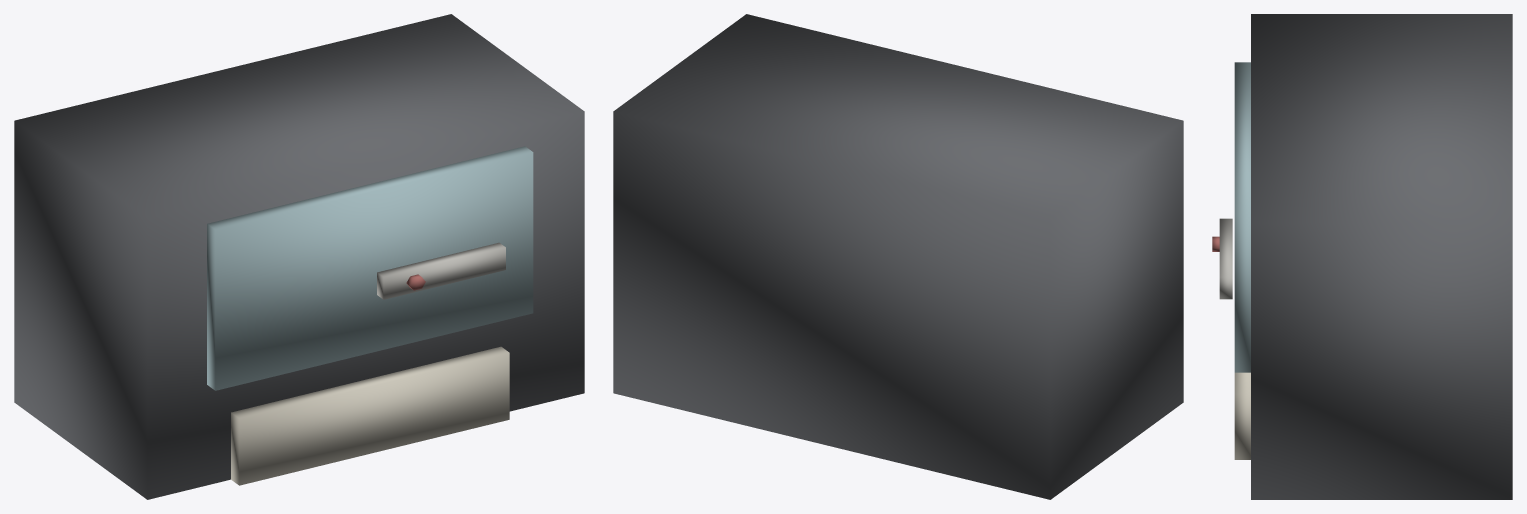
File: television__wide.glb
3 renders of one model, left to right at view 1: azimuth 30°, elevation 25°; view 2: azimuth 150°, elevation 25°; view 3: azimuth 270°, elevation 25°, orthographic.
Parts seen in each view (by area): view 1: world; view 2: world; view 3: world.
Part boxes in pixels (x1,y1,x2,y2): world: (14, 14, 584, 499); world: (613, 14, 1183, 499); world: (1212, 14, 1512, 499).
Bounding box in the file's own units: 0.682 × 0.42 × 0.4135.
